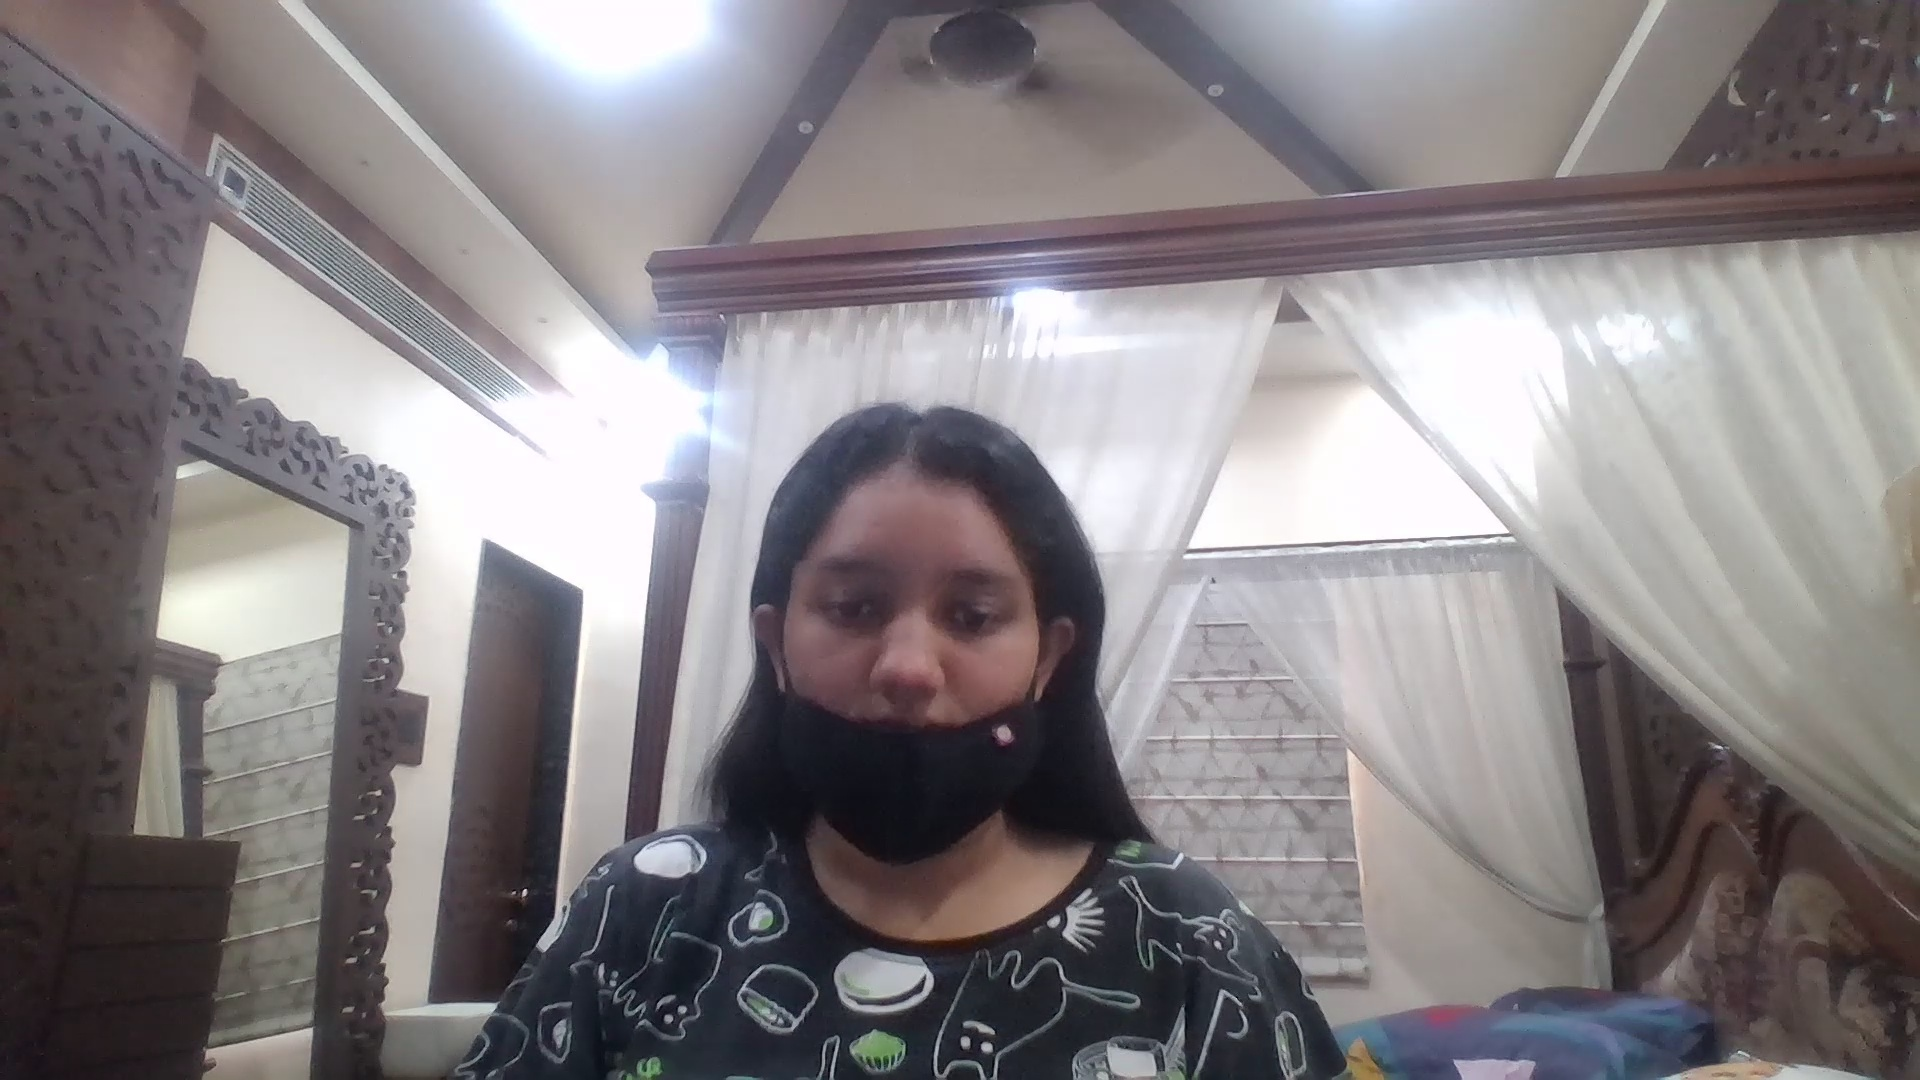Mask: (779, 653, 1050, 878)
